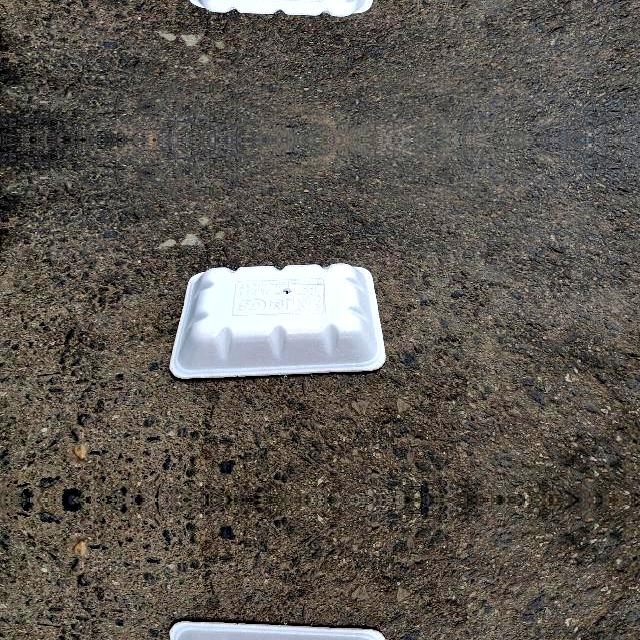Styrofoam: (171, 264, 387, 380), (169, 263, 386, 378)
